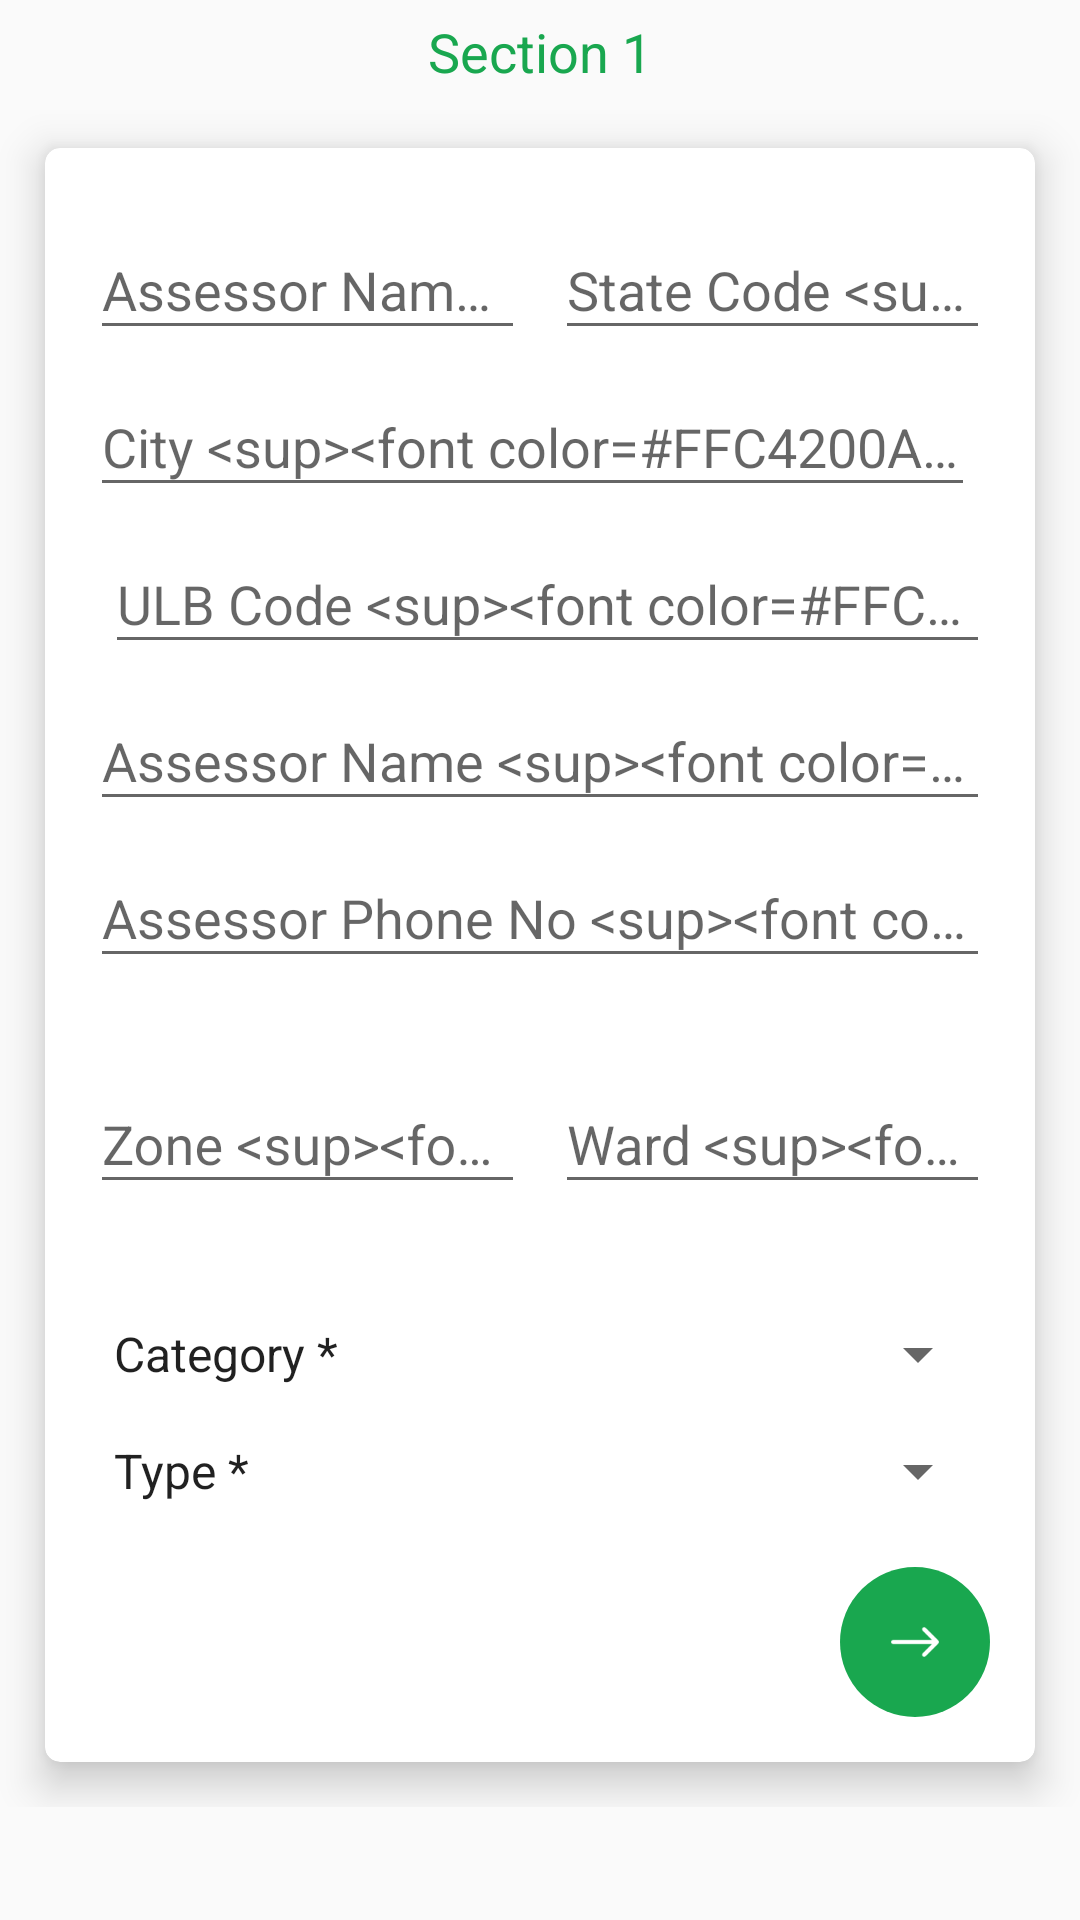

Screen size 1080px×1920px. Icon name, then its box in pixels as {"left": x1, "top": y1, "right": x2, "bottom": y2}:
right arrow: {"left": 840, "top": 1567, "right": 990, "bottom": 1717}
